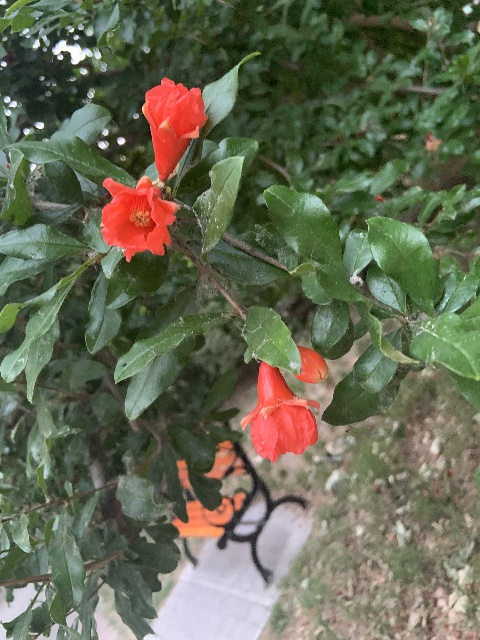bud: (293, 345, 327, 384)
flower: (241, 359, 319, 462), (142, 76, 208, 180), (100, 174, 178, 261)
